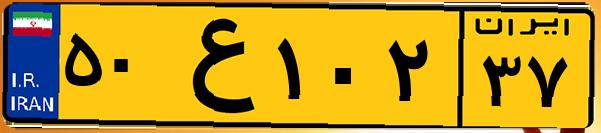0: (330, 28, 385, 110), (110, 28, 158, 98)
1: (270, 28, 330, 110)
2: (385, 28, 445, 110)
3: (475, 38, 525, 113)
5: (57, 26, 110, 100)
7: (525, 38, 570, 115)
ع: (158, 12, 270, 120)
